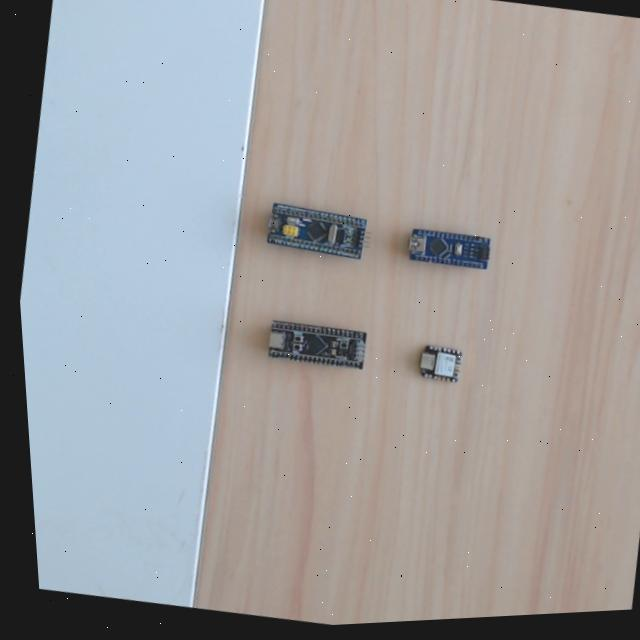Arduino-Nano: (405, 225, 494, 271)
ESP32C3-Xiao: (414, 342, 465, 386)
STM32-Blackpill: (266, 317, 369, 372)
STM32-Bluepill: (264, 199, 370, 264)
